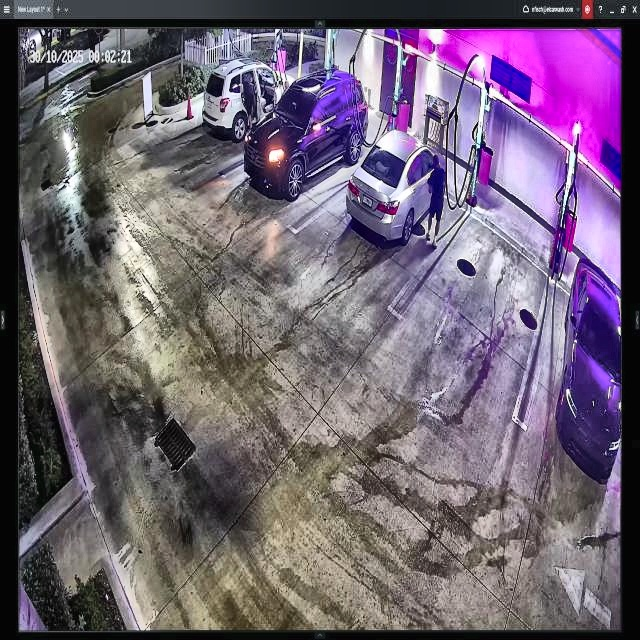Car: (244, 65, 365, 201), (345, 127, 446, 245)
